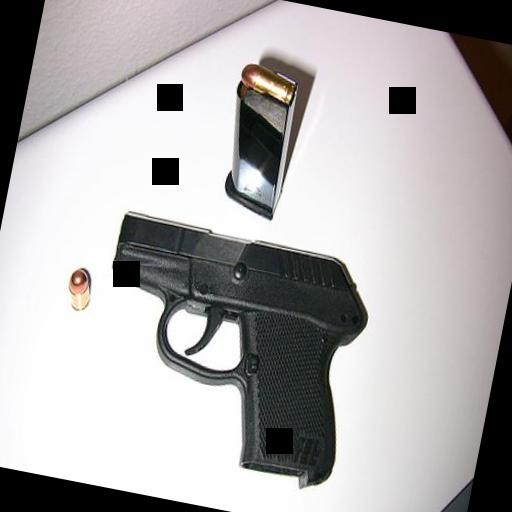Handgun: (77, 207, 378, 493)
